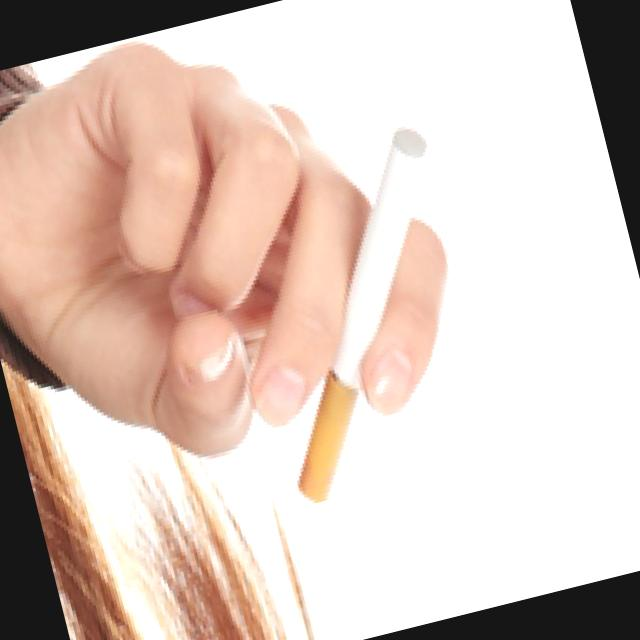smoke: (316, 118, 472, 350)
